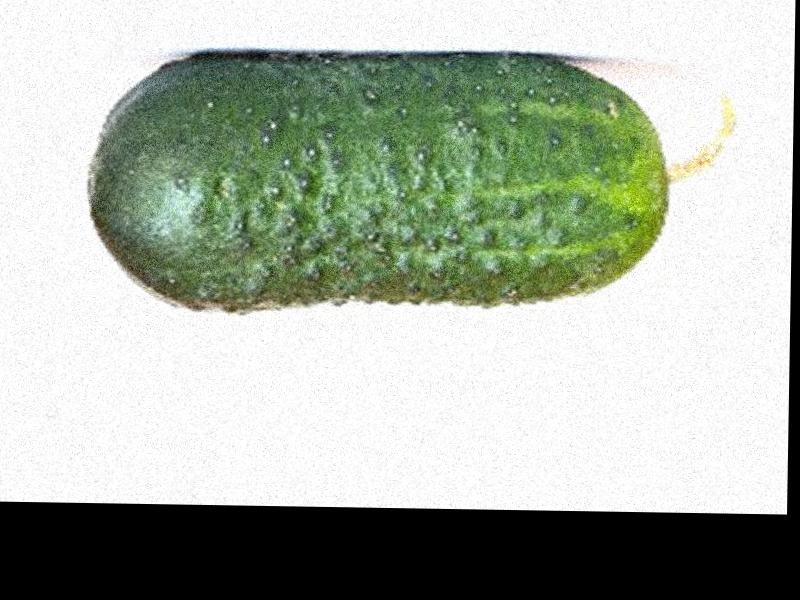Cucumber: (92, 50, 741, 317)
